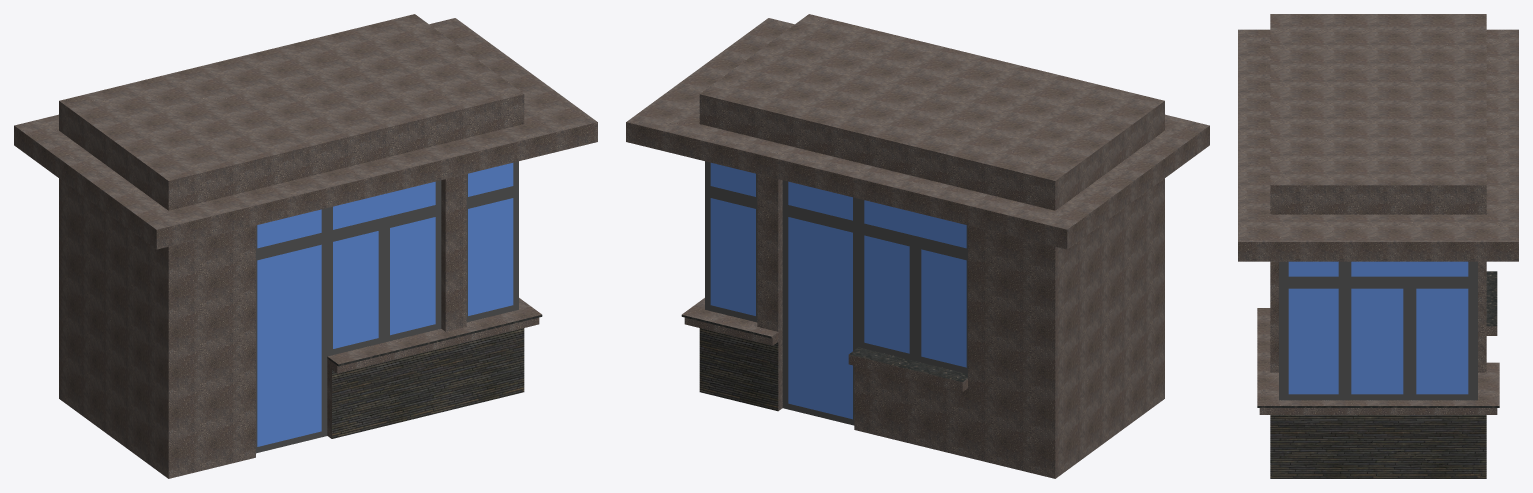
Rendered from Nhà xe.obj.
The picture shows the model from 3 angles, left to right: view 1: azimuth 30°, elevation 25°; view 2: azimuth 150°, elevation 25°; view 3: azimuth 270°, elevation 25°; orthographic projection.
Parts seen in each view (by area): view 1: Mesh2 Group5 Group4 Group3 Group2 Group1 Model, Mesh1 Group5 Group4 Group3 Group2 Group1 Model, Mesh6 Group7 Group6 Group1 Model, Mesh4 Group8 Group7 Group6 Group1 Model, Mesh21 Group13 Group12 Group6 Group1 Model, Mesh8 Group7 Group6 Group1 Model, Mesh9 Group7 Group6 Group1 Model, Mesh10 Group7 Group6 Group1 Model, Mesh5 Group7 Group6 Group1 Model, Mesh3 Group4 Group3 Group2 Group1 Model; view 2: Mesh2 Group5 Group4 Group3 Group2 Group1 Model, Mesh1 Group5 Group4 Group3 Group2 Group1 Model, Mesh17 Group9 Group6 Group1 Model, Mesh21 Group13 Group12 Group6 Group1 Model, Mesh20 Group9 Group6 Group1 Model, Mesh16 Group9 Group6 Group1 Model, Mesh12 Group11 Group10 Group9 Group6 Group1 Model, Mesh15 Group10 Group9 Group6 Group1 Model, Mesh19 Group9 Group6 Group1 Model, Mesh13 Group11 Group10 Group9 Group6 Group1 Model, Mesh18 Group9 Group6 Group1 Model; view 3: Mesh2 Group5 Group4 Group3 Group2 Group1 Model, Mesh21 Group13 Group12 Group6 Group1 Model, Mesh1 Group5 Group4 Group3 Group2 Group1 Model.
Part boxes in pixels (left/top/right/bottom): Mesh2 Group5 Group4 Group3 Group2 Group1 Model: left=14, top=14, right=597, bottom=249; Mesh1 Group5 Group4 Group3 Group2 Group1 Model: left=59, top=174, right=542, bottom=478; Mesh6 Group7 Group6 Group1 Model: left=257, top=244, right=321, bottom=446; Mesh4 Group8 Group7 Group6 Group1 Model: left=256, top=180, right=441, bottom=453; Mesh21 Group13 Group12 Group6 Group1 Model: left=466, top=161, right=518, bottom=322; Mesh8 Group7 Group6 Group1 Model: left=390, top=217, right=435, bottom=335; Mesh9 Group7 Group6 Group1 Model: left=333, top=231, right=378, bottom=348; Mesh10 Group7 Group6 Group1 Model: left=333, top=181, right=435, bottom=229; Mesh5 Group7 Group6 Group1 Model: left=257, top=209, right=321, bottom=248; Mesh3 Group4 Group3 Group2 Group1 Model: left=441, top=179, right=445, bottom=331; Mesh2 Group5 Group4 Group3 Group2 Group1 Model: left=626, top=14, right=1209, bottom=249; Mesh1 Group5 Group4 Group3 Group2 Group1 Model: left=681, top=174, right=1164, bottom=478; Mesh17 Group9 Group6 Group1 Model: left=788, top=217, right=852, bottom=419; Mesh21 Group13 Group12 Group6 Group1 Model: left=705, top=161, right=757, bottom=322; Mesh20 Group9 Group6 Group1 Model: left=864, top=235, right=909, bottom=353; Mesh16 Group9 Group6 Group1 Model: left=921, top=249, right=966, bottom=367; Mesh12 Group11 Group10 Group9 Group6 Group1 Model: left=782, top=180, right=858, bottom=425; Mesh15 Group10 Group9 Group6 Group1 Model: left=858, top=199, right=967, bottom=360; Mesh19 Group9 Group6 Group1 Model: left=864, top=200, right=966, bottom=248; Mesh13 Group11 Group10 Group9 Group6 Group1 Model: left=915, top=242, right=967, bottom=373; Mesh18 Group9 Group6 Group1 Model: left=788, top=181, right=852, bottom=220; Mesh2 Group5 Group4 Group3 Group2 Group1 Model: left=1238, top=14, right=1518, bottom=261; Mesh21 Group13 Group12 Group6 Group1 Model: left=1279, top=261, right=1477, bottom=400; Mesh1 Group5 Group4 Group3 Group2 Group1 Model: left=1257, top=261, right=1499, bottom=478.
Bounding box in the file's own units: 4650 × 3000 × 2600.
Materials: 6 (3 with a texture image).
